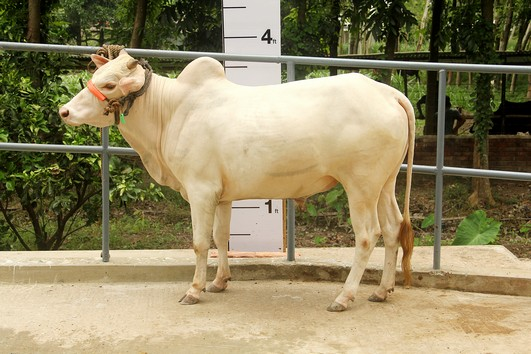cow: (49, 35, 425, 328)
